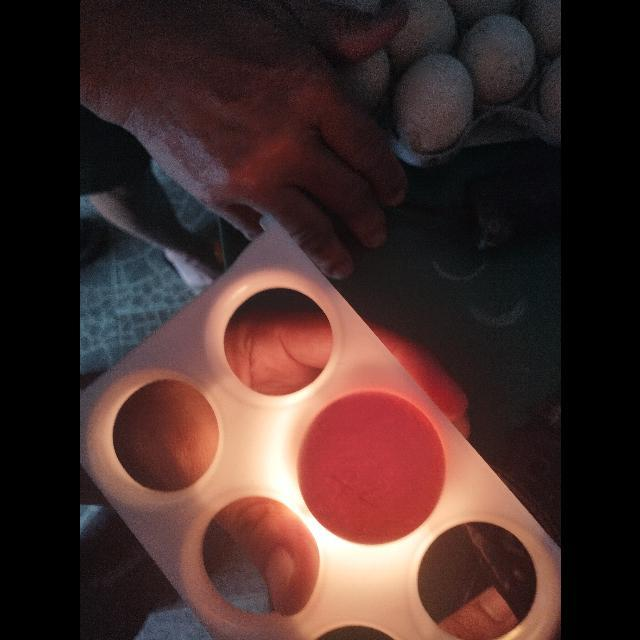Infertile: (296, 389, 446, 546)
